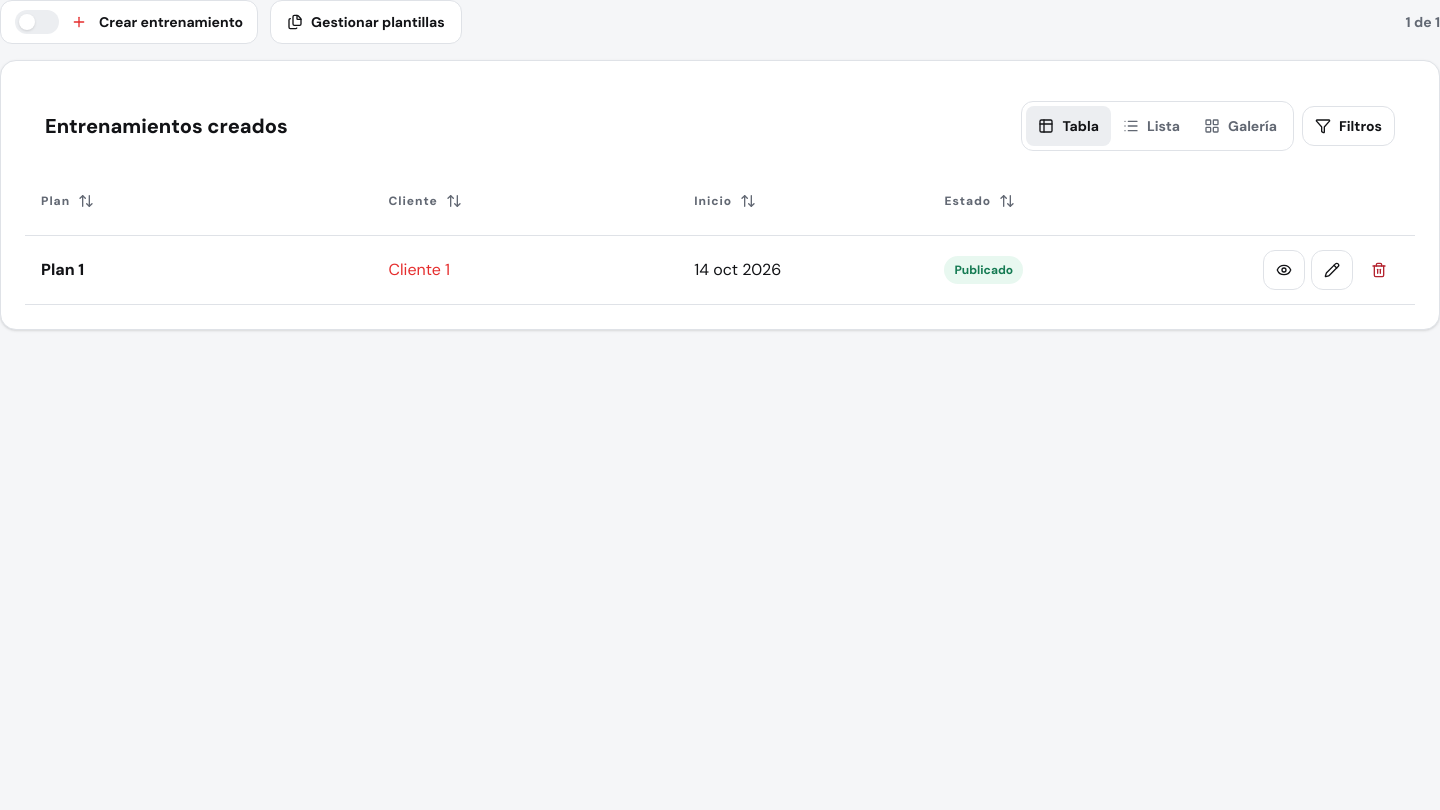
Test case: AssignmentsManager › abre la lectura completa, la edición y la confirmación de eliminación sin mostrar versión
The width and height of the screenshot is (1440, 810).
What coordinates should you click on to do the following:
click the button named "Ver entrenamiento Plan 1"
I would click on:
 (1284, 270)
Its box is [1263, 250, 1305, 290].
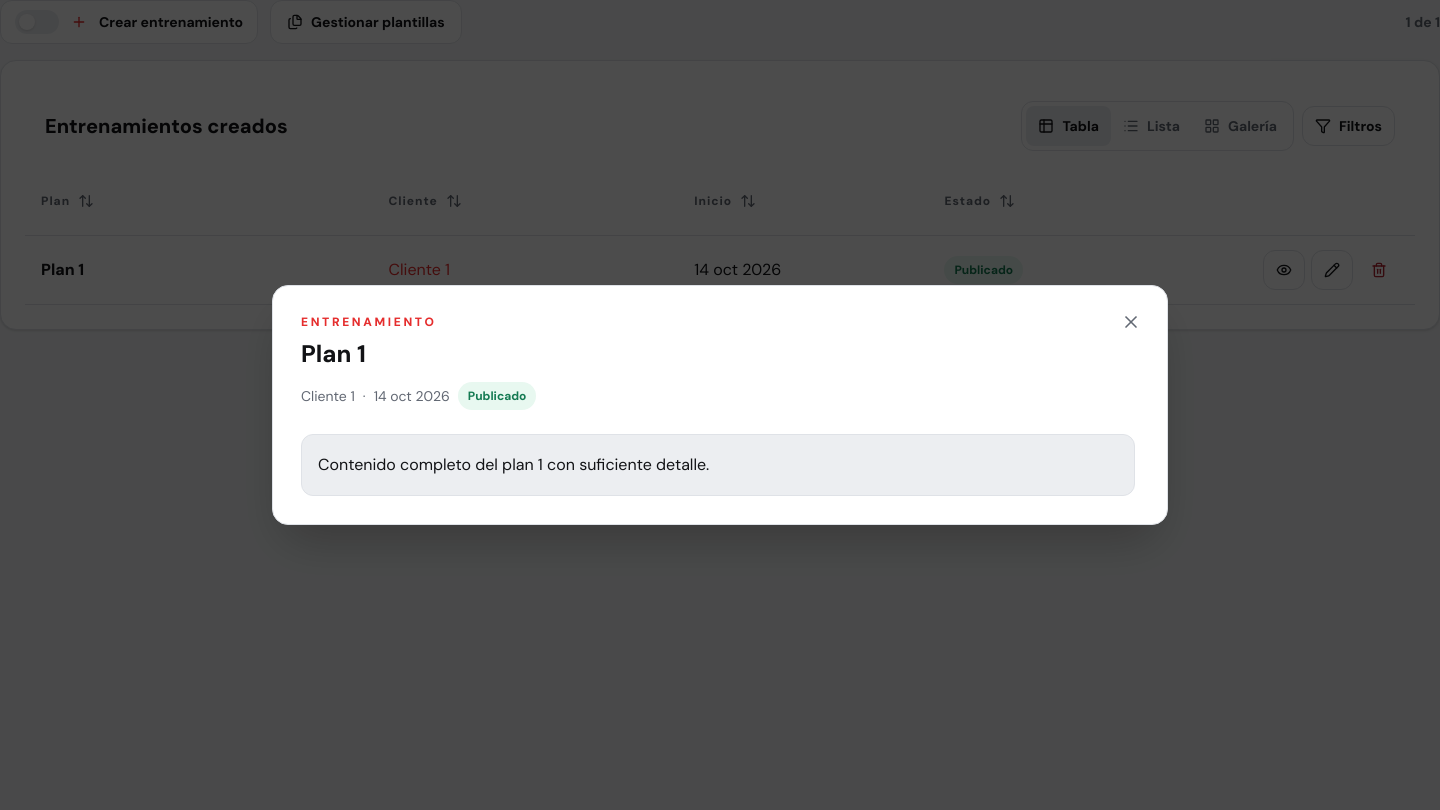
Now the dialog "Plan 1" shows "Contenido completo del plan 1", box [318, 454, 709, 475]
What coordinates should you click on to do the following:
click the button named "Cerrar plan"
I would click on:
 (1131, 322)
Its box is [1111, 302, 1151, 342].
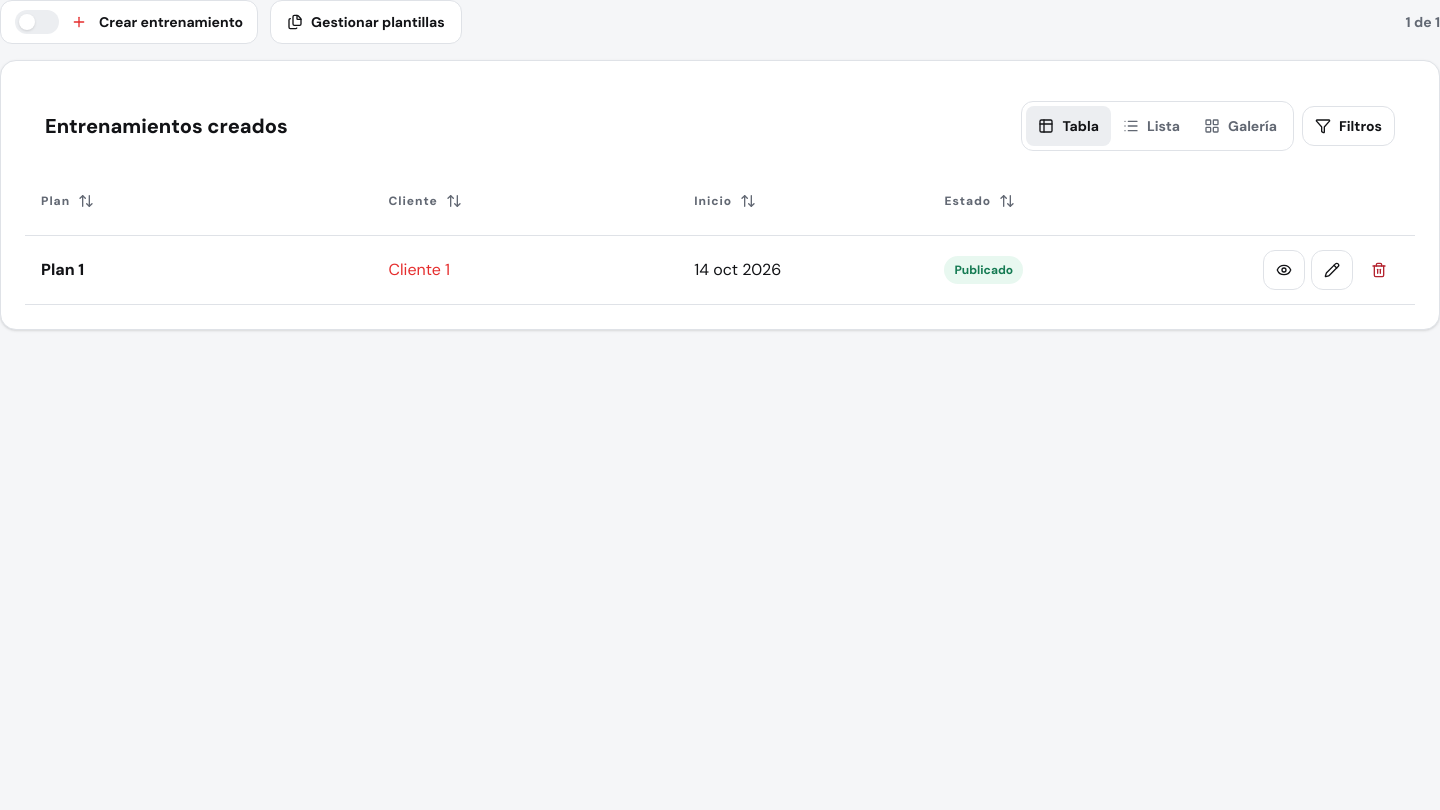
What coordinates should you click on to do the following:
click the button named "Editar entrenamiento Plan 1"
I would click on:
 (1332, 270)
Its box is [1311, 250, 1353, 290].
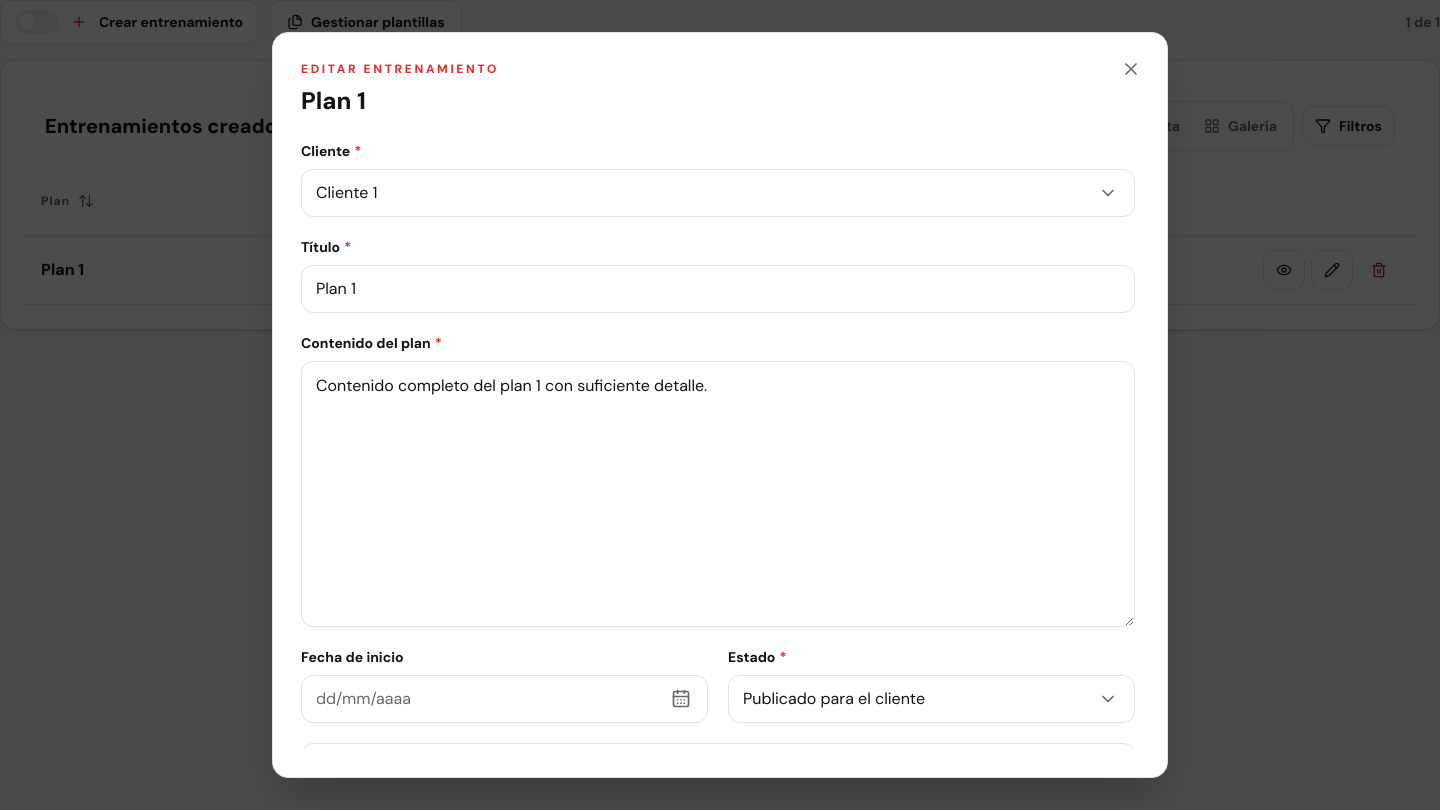
What coordinates should you click on to do the following:
click the button named "Cerrar edición del plan"
I would click on:
 (1131, 69)
Its box is [1111, 49, 1151, 89].
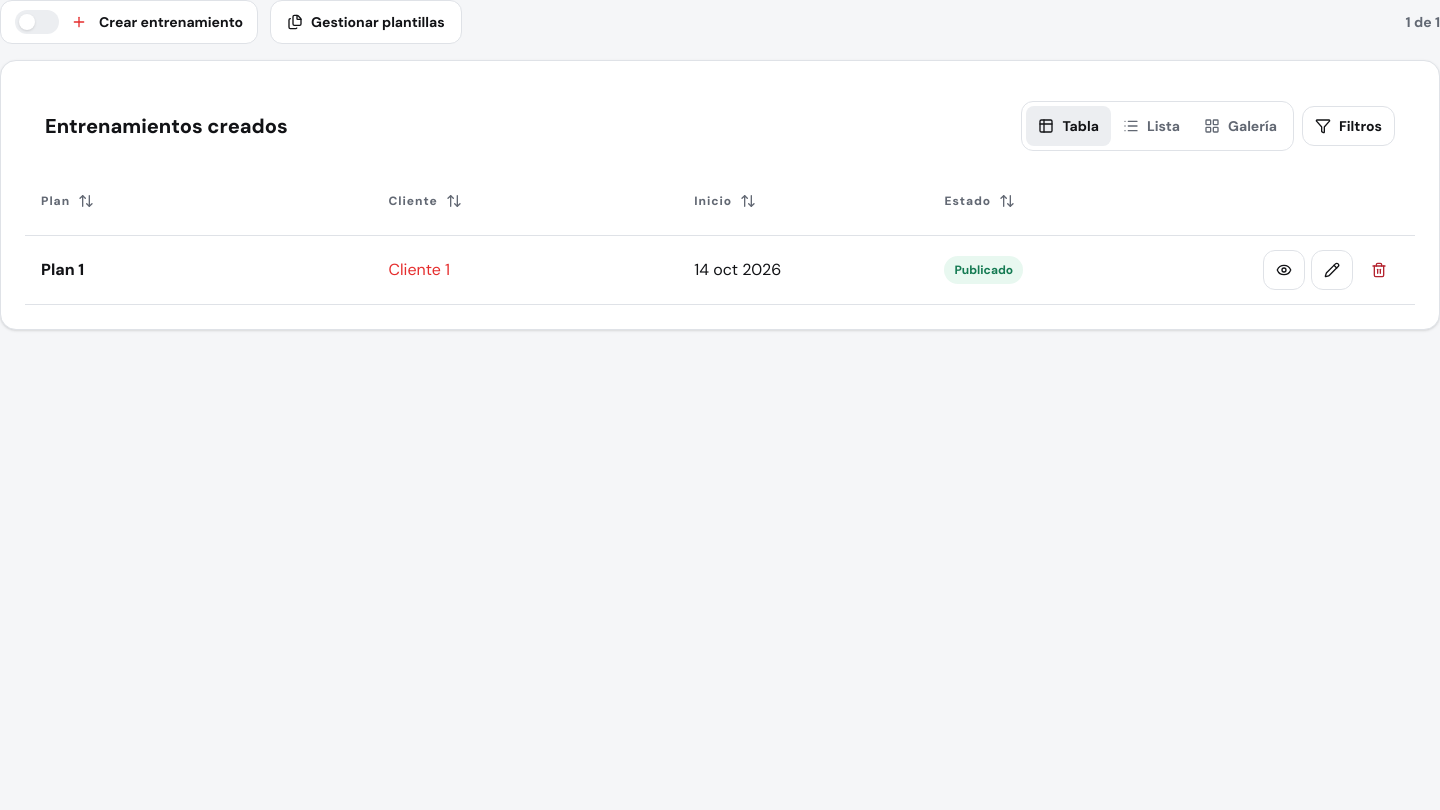
What coordinates should you click on to do the following:
click the button named "Eliminar entrenamiento Plan 1"
I would click on:
 (1379, 270)
Its box is [1359, 250, 1399, 290].
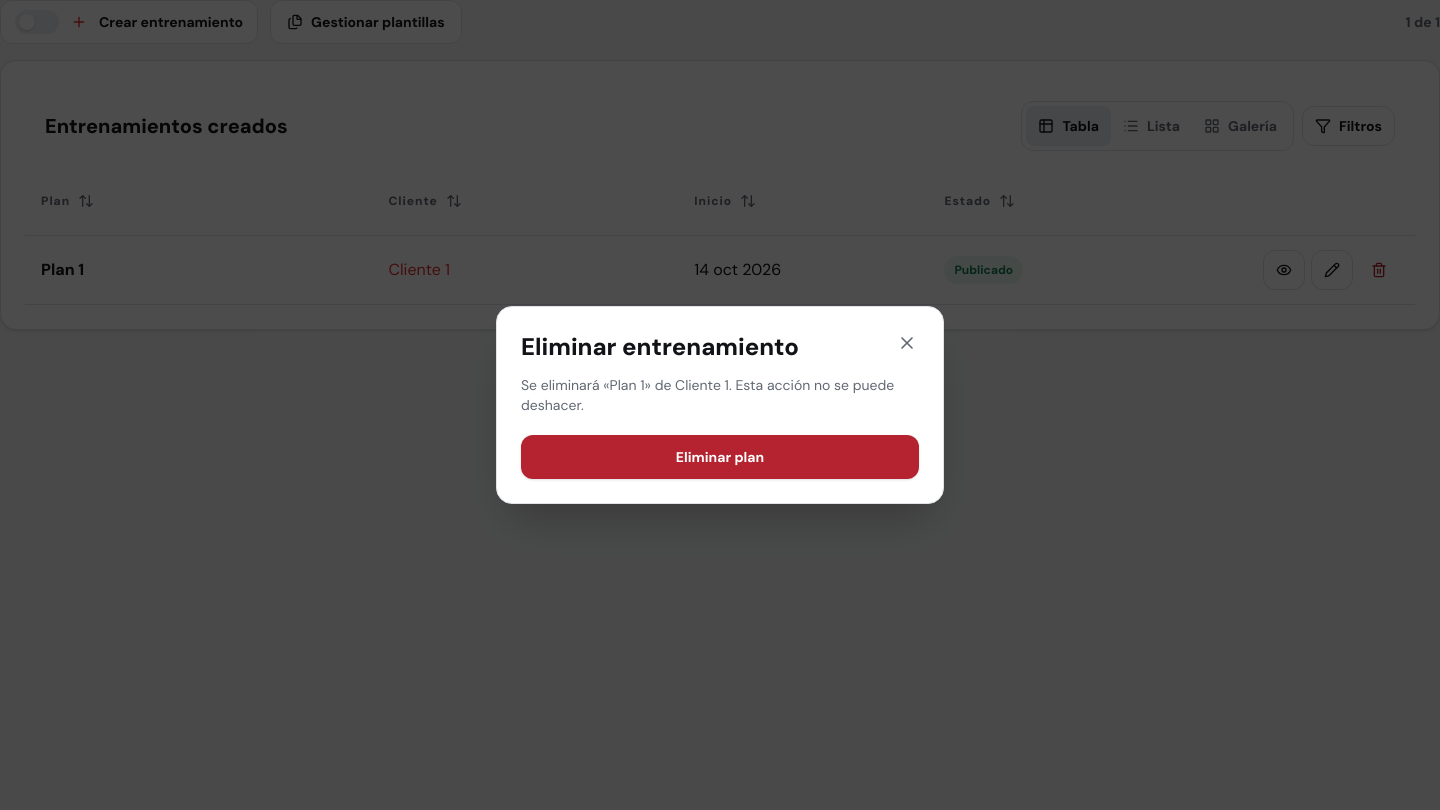
Now the dialog "Eliminar entrenamiento" is shown, box [496, 306, 944, 504]
Now the button "Eliminar plan" is shown, box [521, 435, 919, 479]
